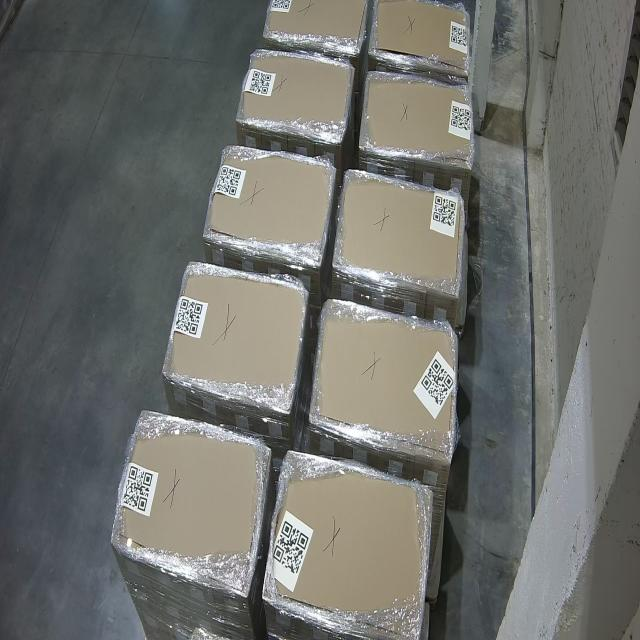pallet: (265, 450, 436, 640), (110, 406, 270, 596), (311, 298, 466, 462), (163, 264, 306, 410), (334, 166, 472, 300), (202, 147, 336, 266), (233, 52, 356, 148), (360, 68, 478, 167), (372, 0, 476, 77), (263, 0, 370, 55)
